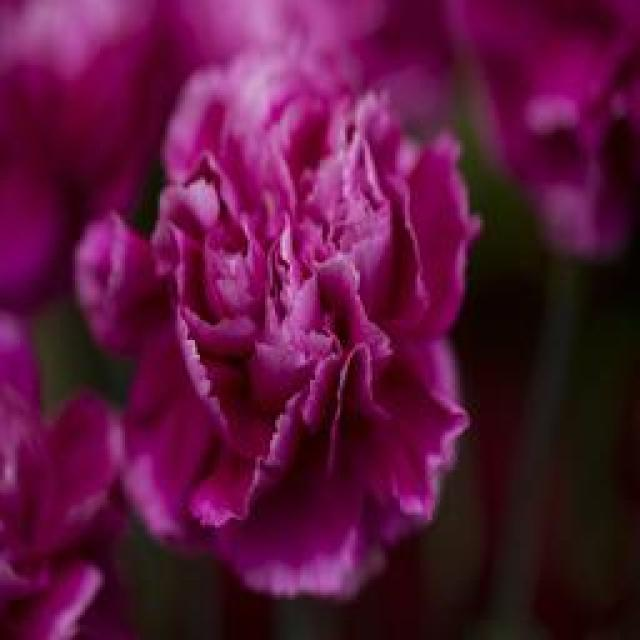carnation: (90, 98, 497, 566)
